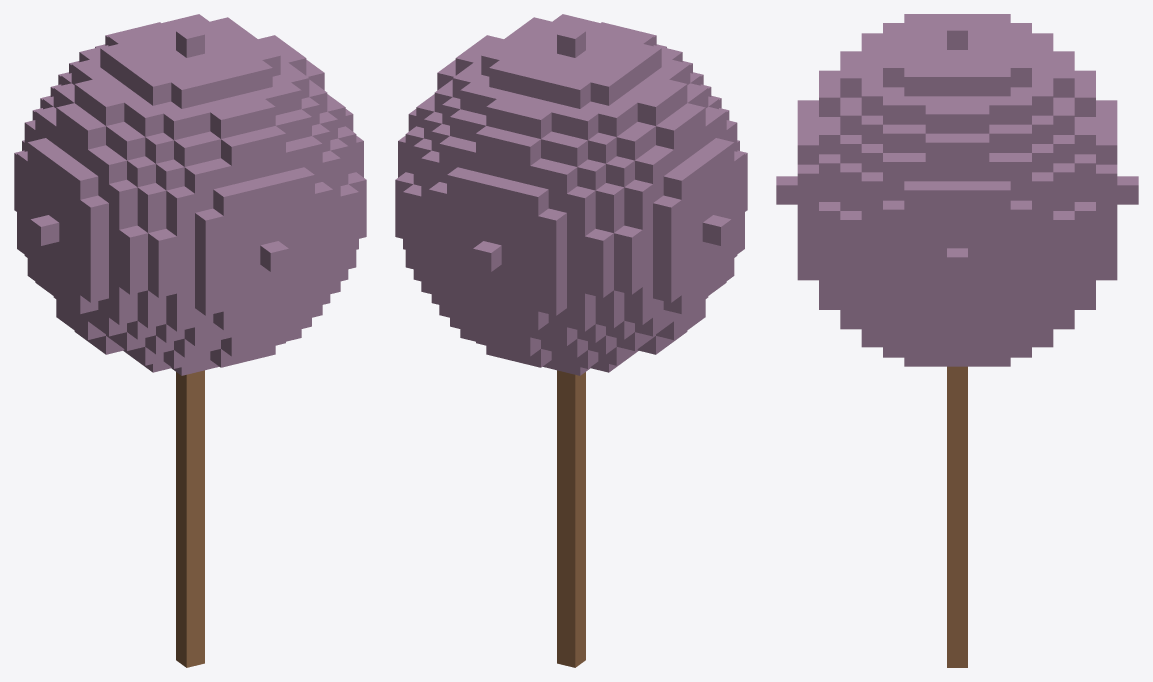
File: events-01.glb
3 renders of one model, left to right at view 1: azimuth 30°, elevation 25°; view 2: azimuth 150°, elevation 25°; view 3: azimuth 270°, elevation 25°, orthographic.
Visible parts, largest first — view 1: Balloon cluster; view 2: Balloon cluster; view 3: Balloon cluster.
Part boxes in pixels (bbox=[...]): Balloon cluster: bbox=[14, 14, 366, 667]; Balloon cluster: bbox=[395, 14, 747, 667]; Balloon cluster: bbox=[776, 14, 1138, 667].
Bounding box in the file's own units: 1.36 × 2.64 × 1.36.
